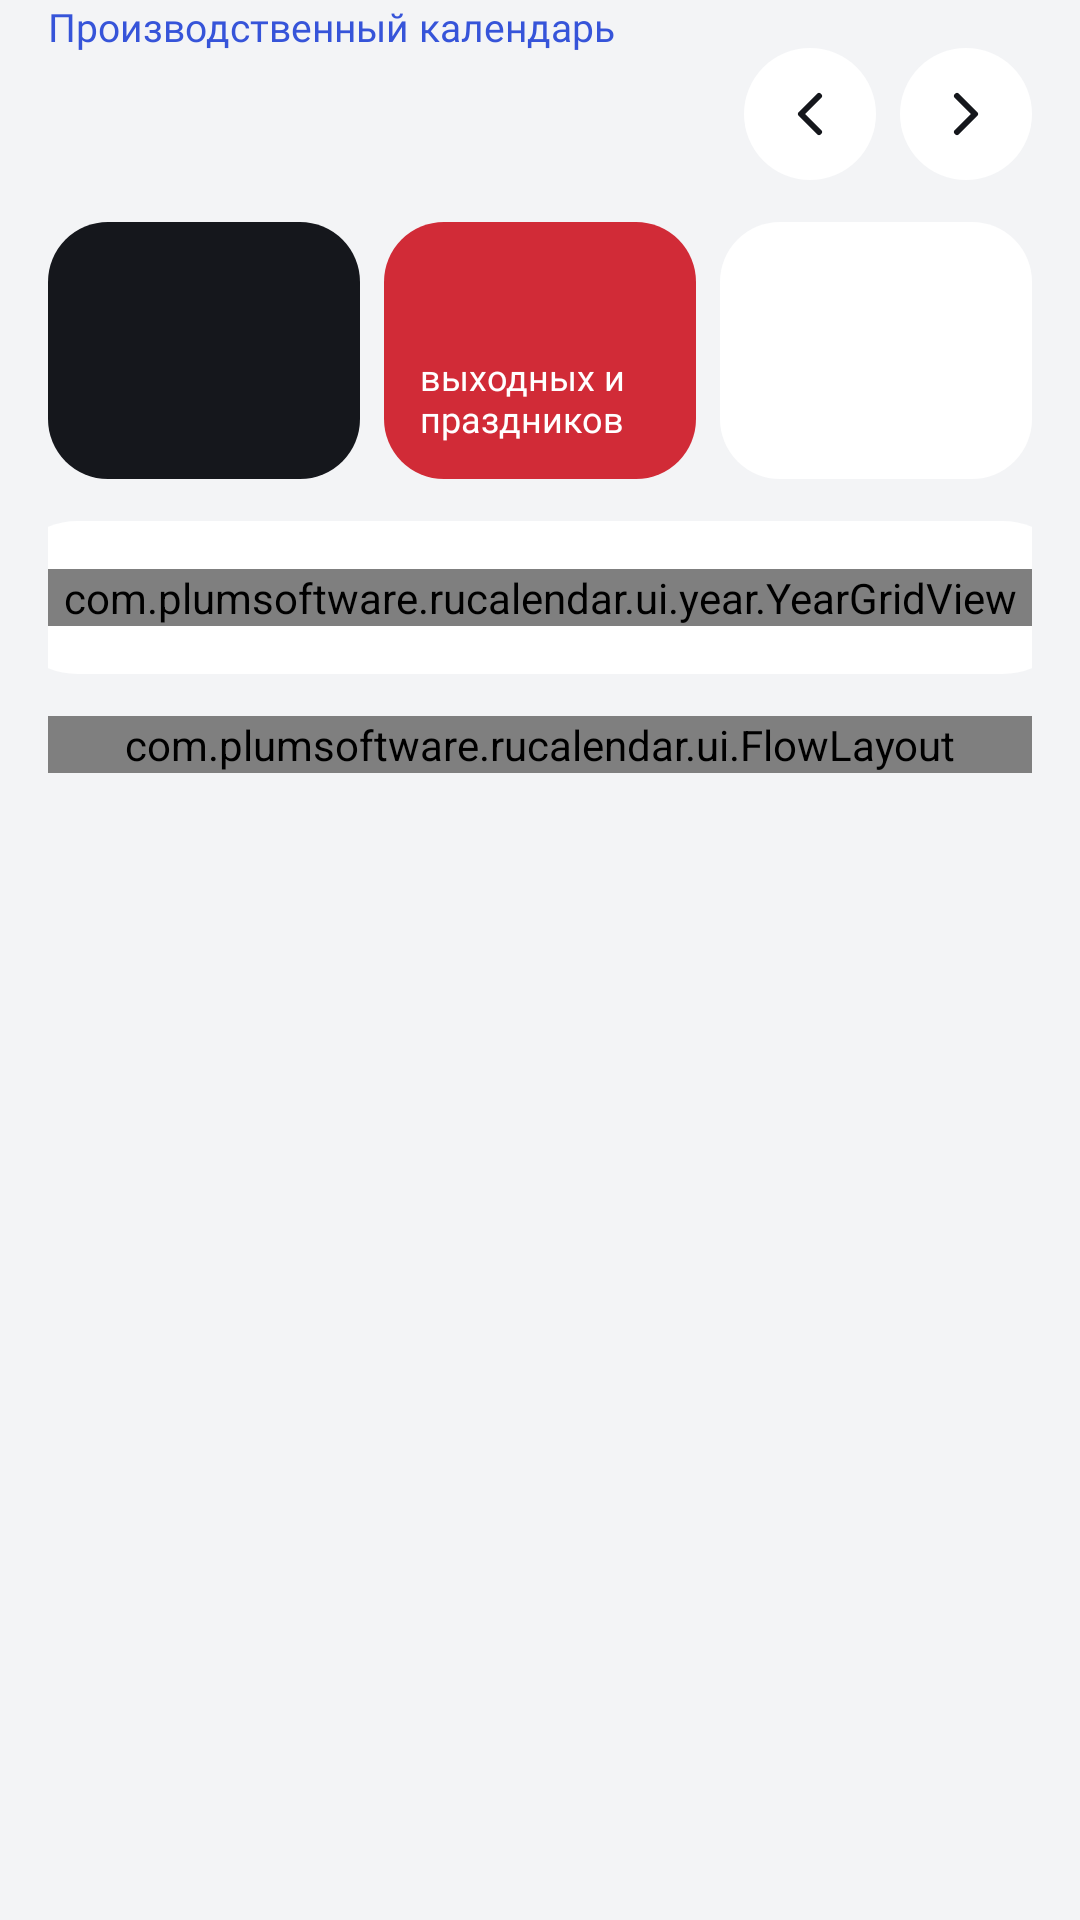

Icon bounding boxes for this 1080*1920 phone screenshot, format (x1, y1, x2, y2):
Предыдущий год: (744, 48, 876, 180)
Следующий год: (900, 48, 1032, 180)
